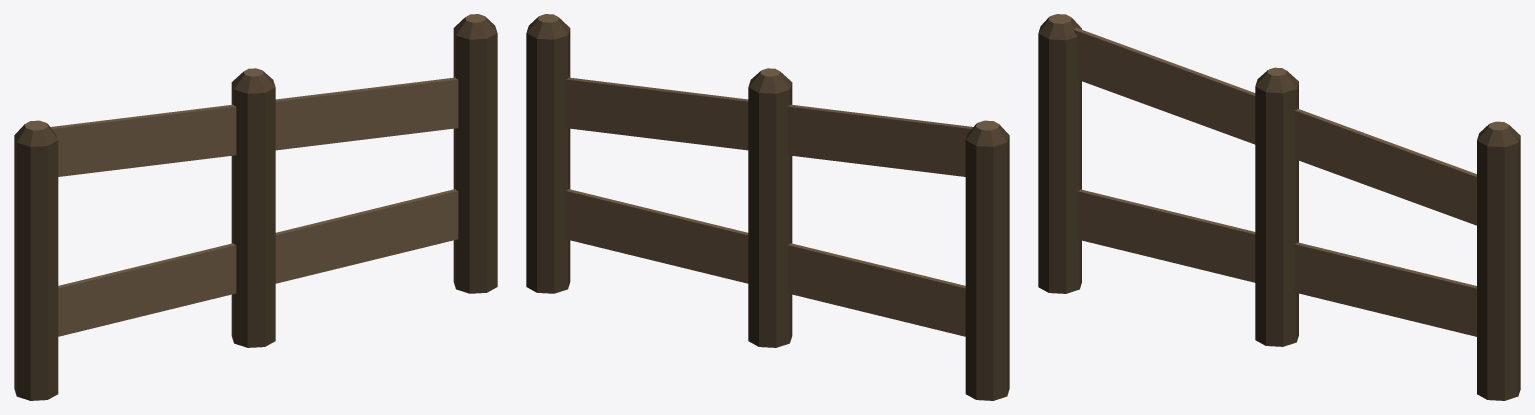
File: Fence.fbx
The picture shows the model from 3 angles, left to right: view 1: azimuth 30°, elevation 25°; view 2: azimuth 150°, elevation 25°; view 3: azimuth 330°, elevation 25°; orthographic projection.
Parts seen in each view (by area): view 1: Cabin_Corner_Wall5; view 2: Cabin_Corner_Wall5; view 3: Cabin_Corner_Wall5.
Boxes of the visible parts, x1,y1,x2,y2 form: Cabin_Corner_Wall5: (14,14,497,400); Cabin_Corner_Wall5: (526,14,1009,400); Cabin_Corner_Wall5: (1038,14,1520,400).
Size of the model in its own units: 103 by 55.01 by 8.49.
